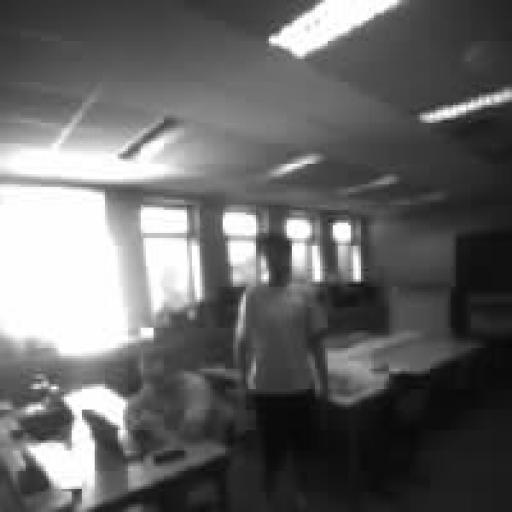human: (236, 233, 330, 509), (126, 346, 232, 445)
